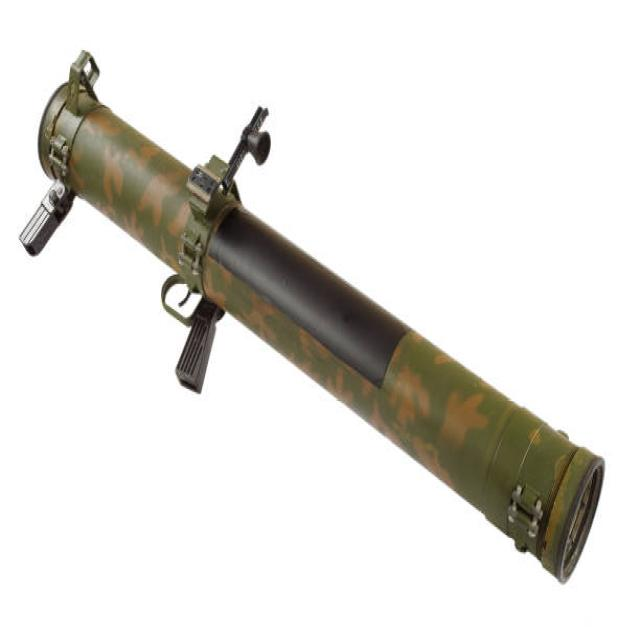bazooka: (12, 38, 621, 591)
